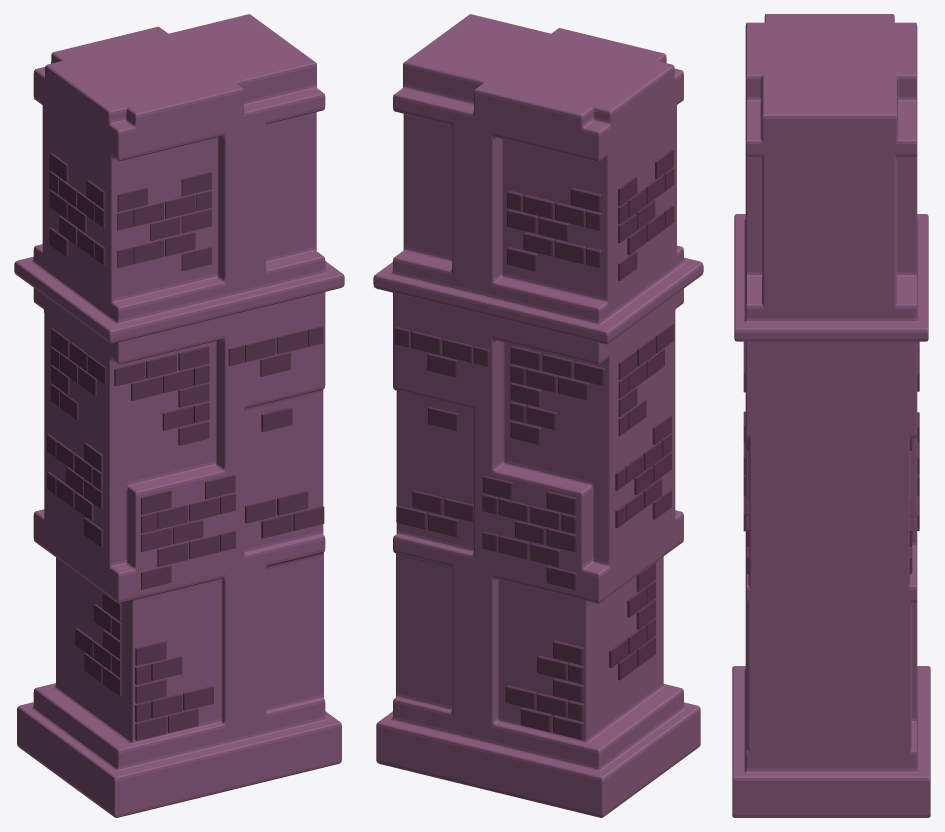
Rendered from Pillar (1).fbx.
3 renders of one model, left to right at view 1: azimuth 30°, elevation 25°; view 2: azimuth 150°, elevation 25°; view 3: azimuth 270°, elevation 25°, orthographic.
Parts seen in each view (by area): view 1: Pillar; view 2: Pillar; view 3: Pillar.
Boxes of the visible parts, left/top/right/bottom form: Pillar: left=14, top=14, right=344, bottom=817; Pillar: left=373, top=14, right=703, bottom=817; Pillar: left=732, top=14, right=930, bottom=817.
Size of the model in its own units: 375 by 1055 by 272.
